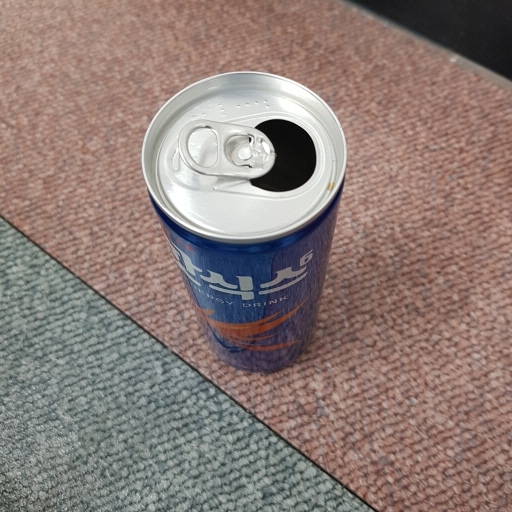Metal_0: (140, 68, 350, 373)
